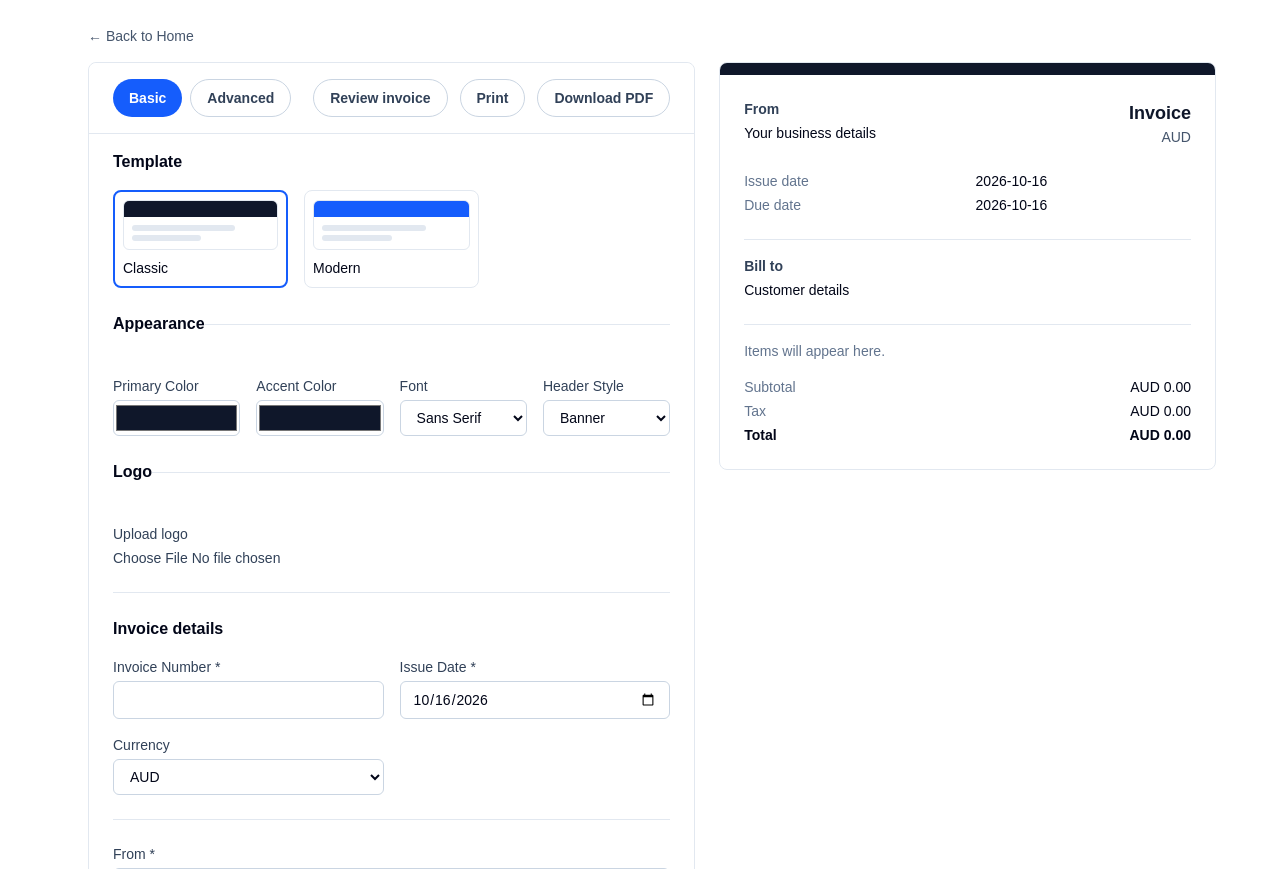
Test case: CreateInvoiceEditor › switching to Advanced reveals Due Date, Reference, Ship To, Notes and Payment Instructions
Click the button "Advanced" at (241, 98), box [190,79,291,117]
(page scrolled)
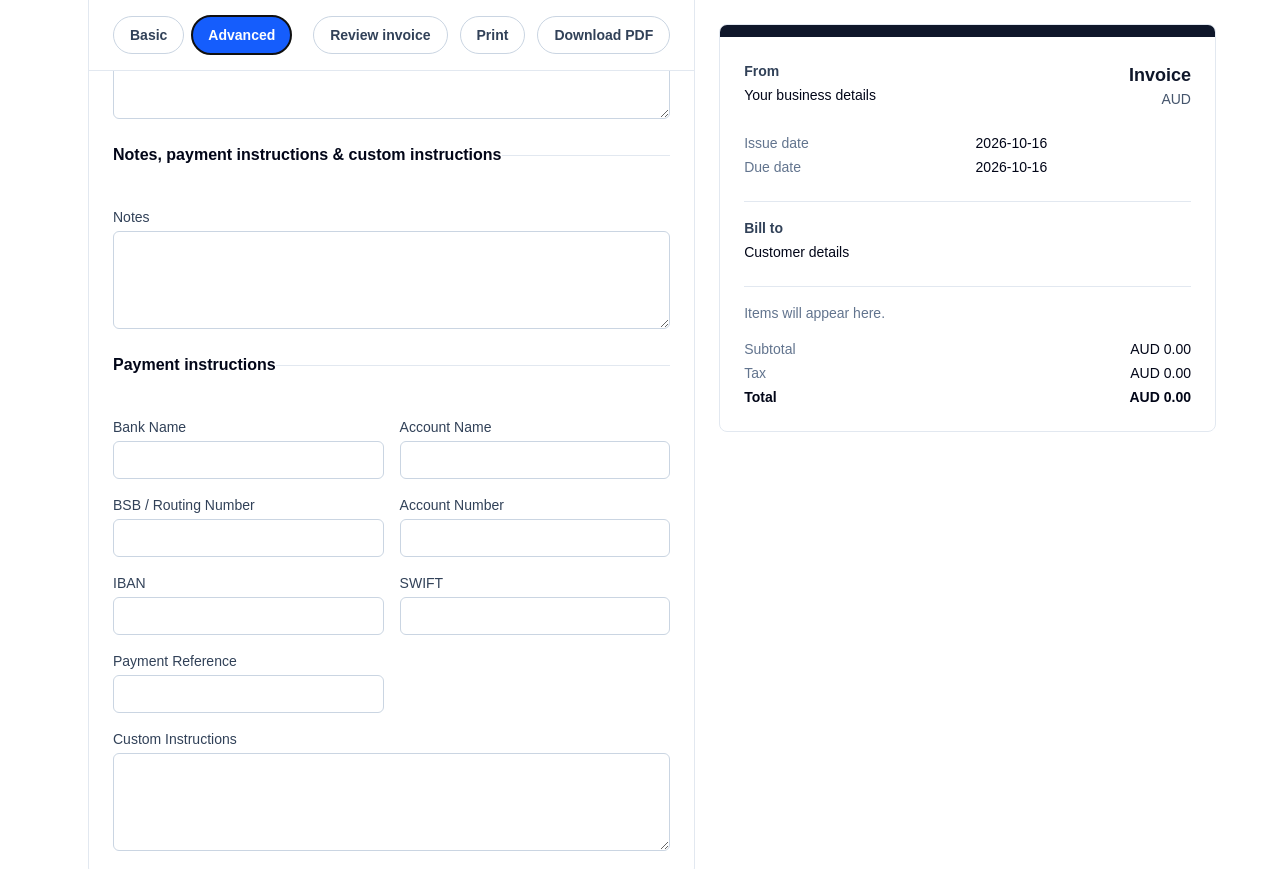
Result: the text box labelled "Notes" is shown at [113,231,670,329]
Result: the field labelled "Bank Name" is shown at [113,441,384,479]
